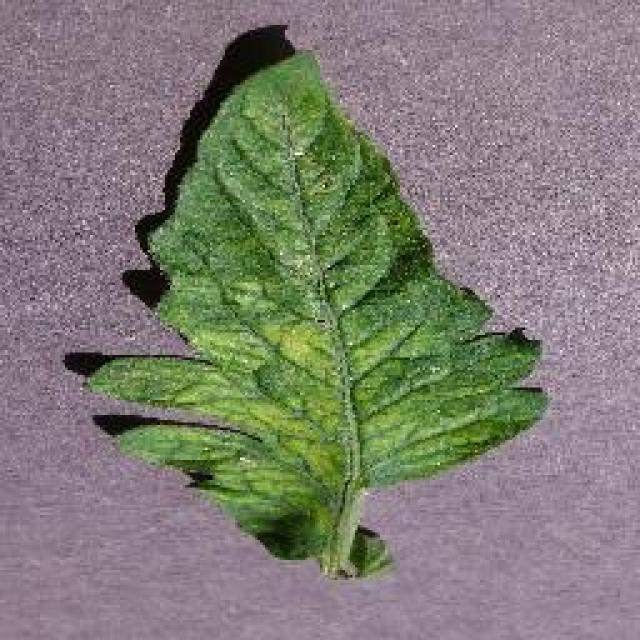Tomato spider mites leaf: (88, 41, 552, 566)
